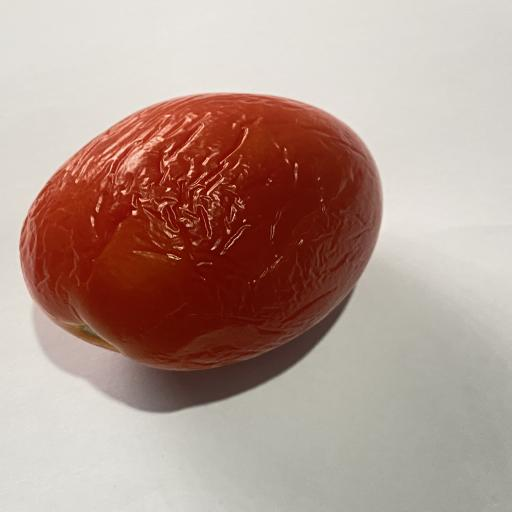spoiled: (20, 94, 382, 370)
